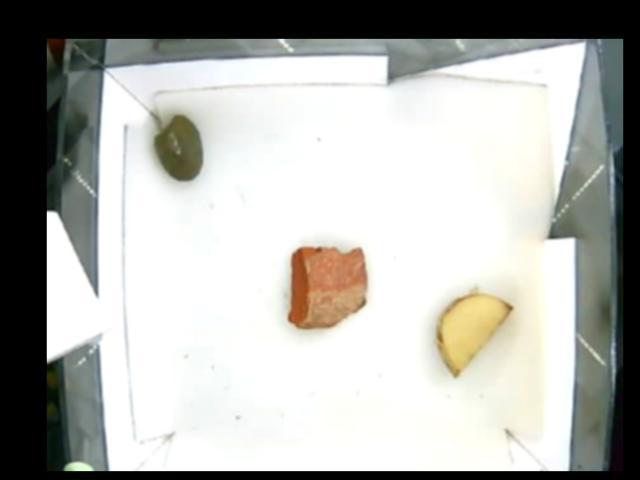Brisk: (289, 245, 367, 333)
Pebble: (152, 114, 207, 182)
Potato: (430, 292, 515, 380)
